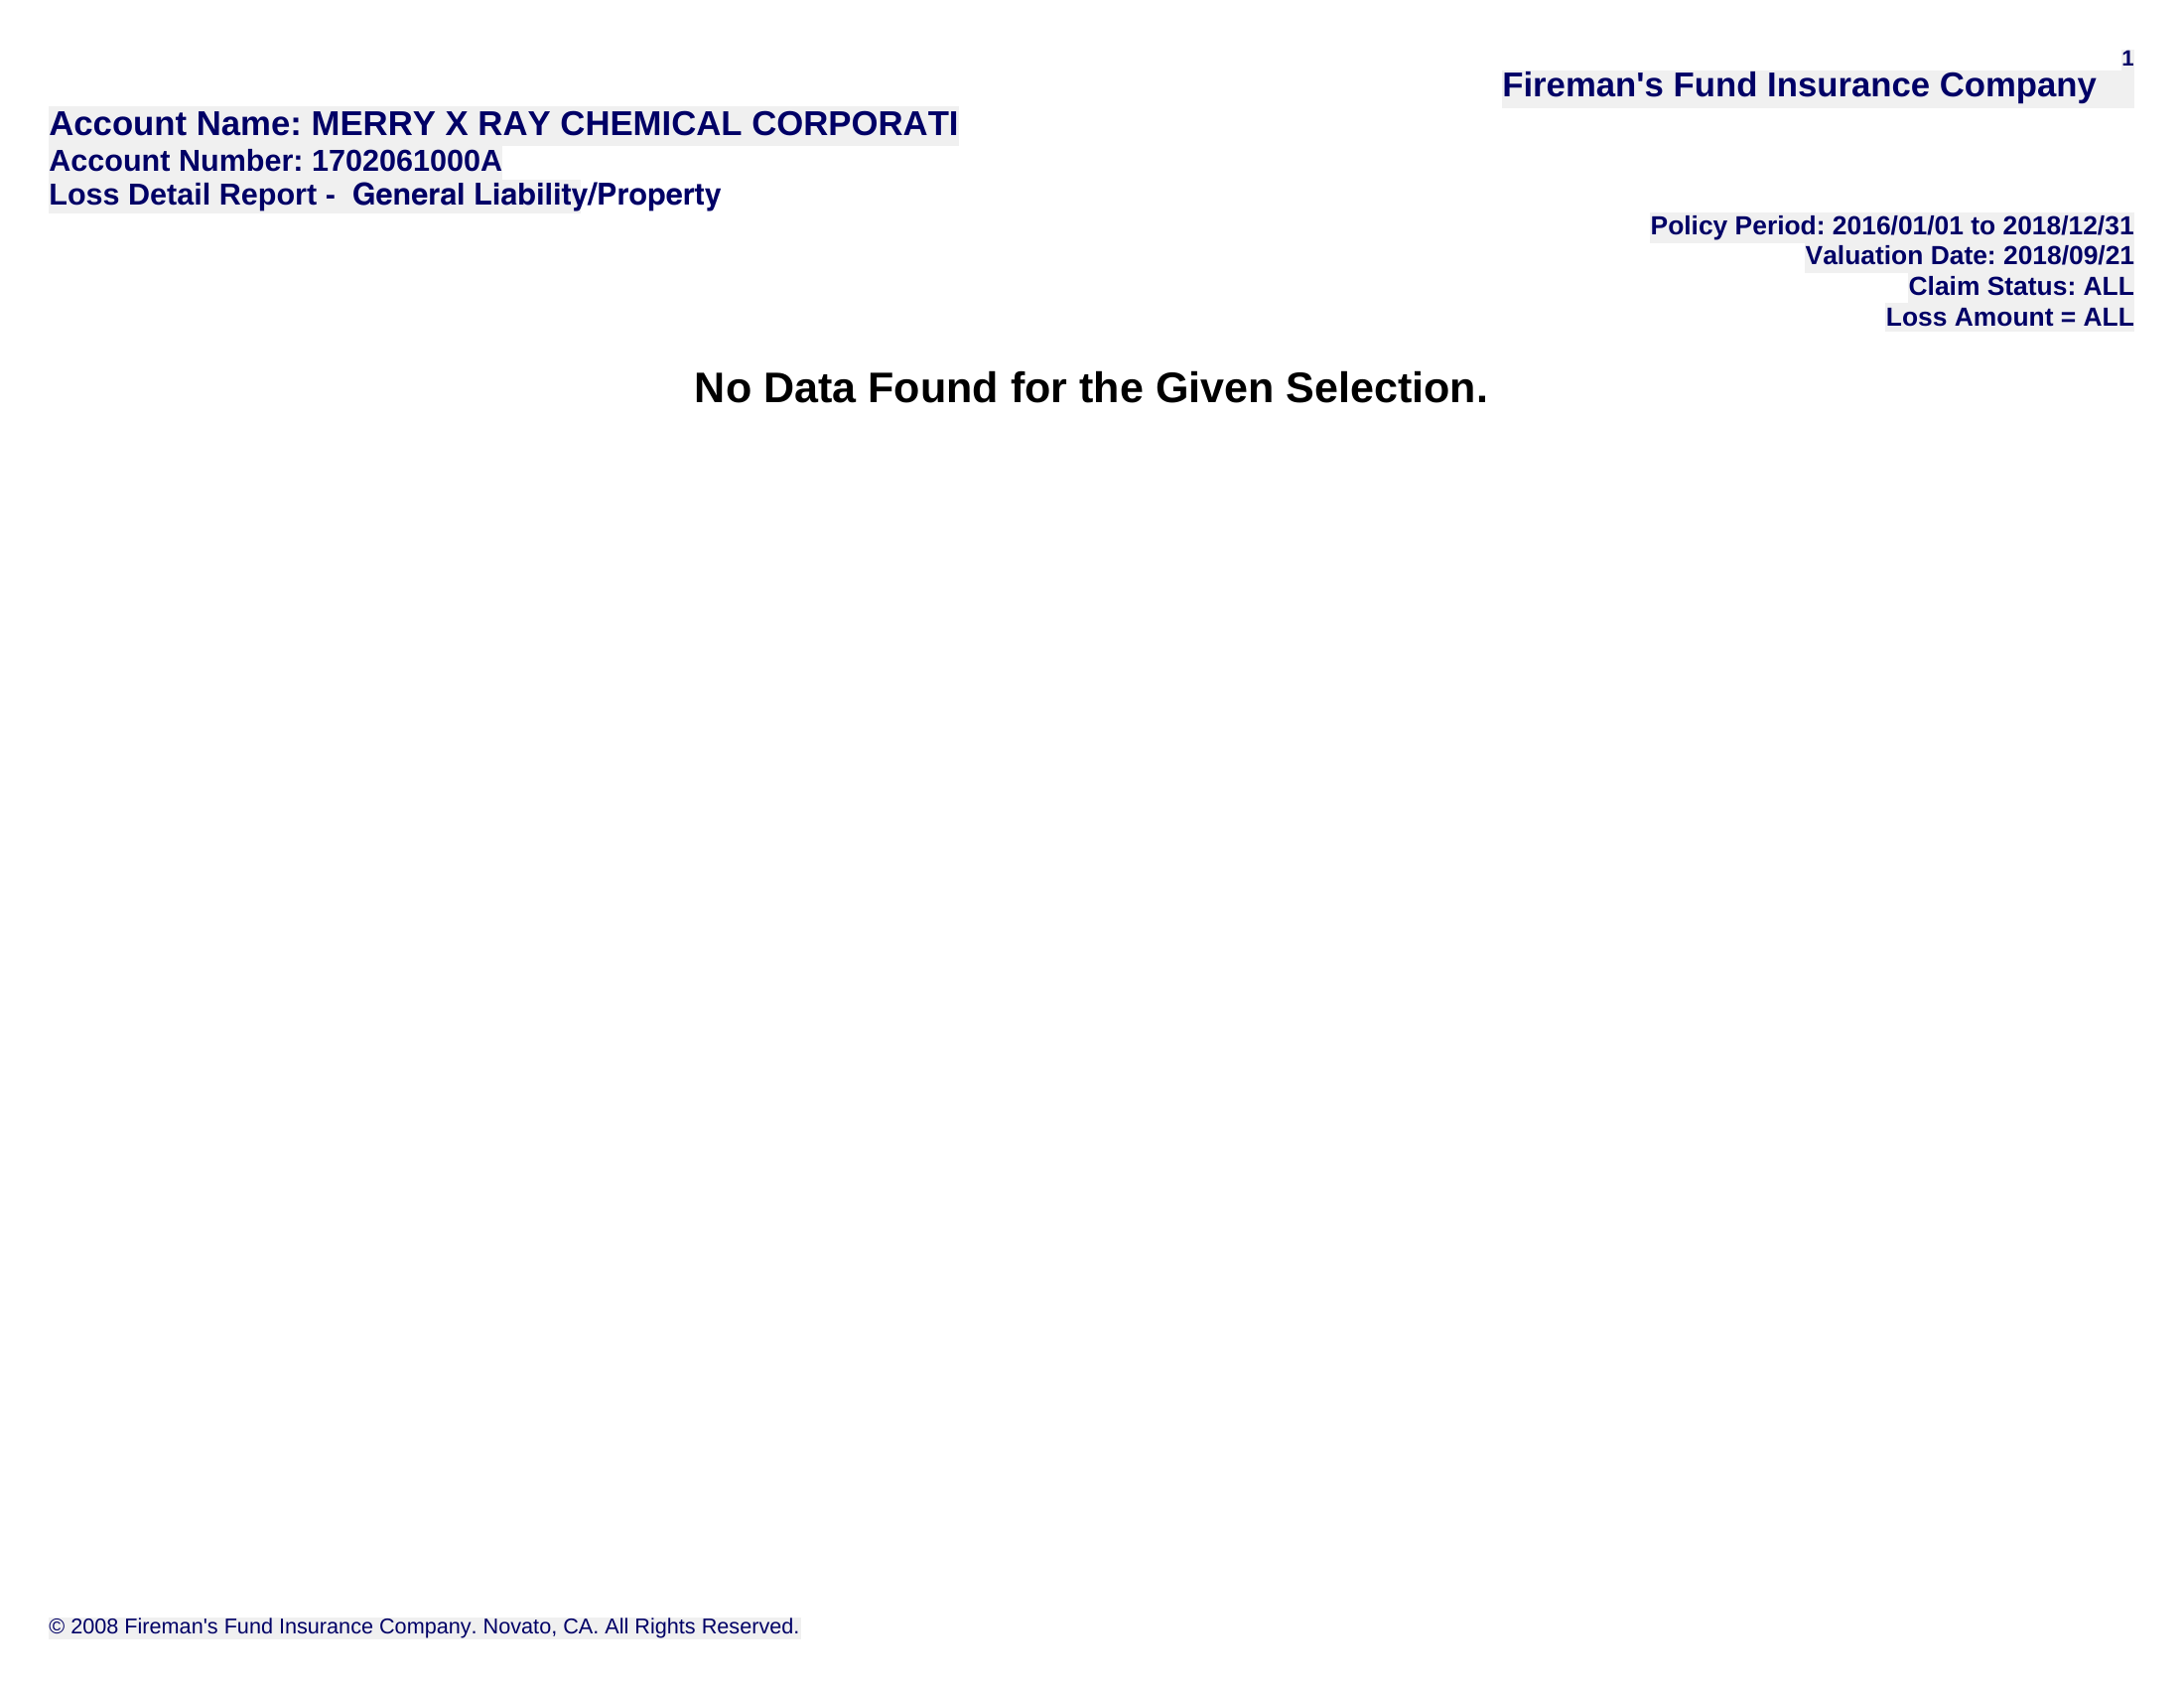No-loss: (30, 90, 2141, 500)
